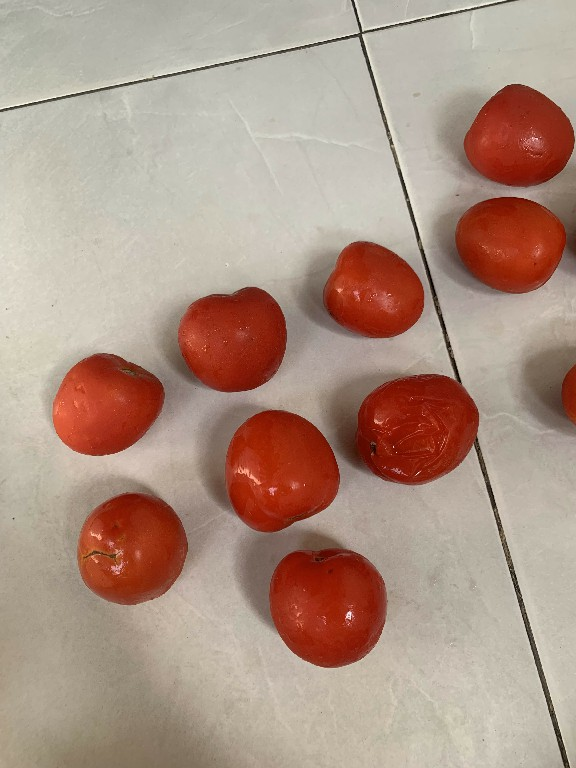NG: (61, 486, 190, 607), (354, 365, 483, 485)
OK: (261, 543, 394, 678), (223, 408, 346, 540), (173, 280, 290, 396), (451, 188, 570, 299), (48, 348, 164, 461), (460, 77, 572, 189), (317, 234, 425, 339)
